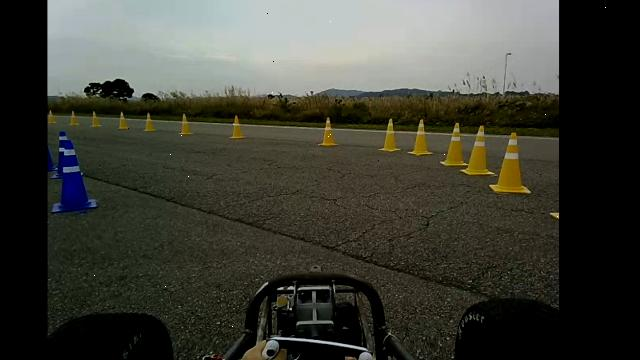blue cone: (56, 135, 100, 216)
yellow cone: (489, 131, 531, 194), (459, 125, 496, 176), (440, 122, 467, 166), (408, 118, 433, 156), (378, 117, 401, 152), (317, 116, 339, 146), (228, 114, 246, 139), (178, 112, 193, 135), (142, 112, 156, 131), (117, 111, 129, 129), (90, 110, 102, 127), (69, 110, 79, 125), (48, 109, 56, 124)
